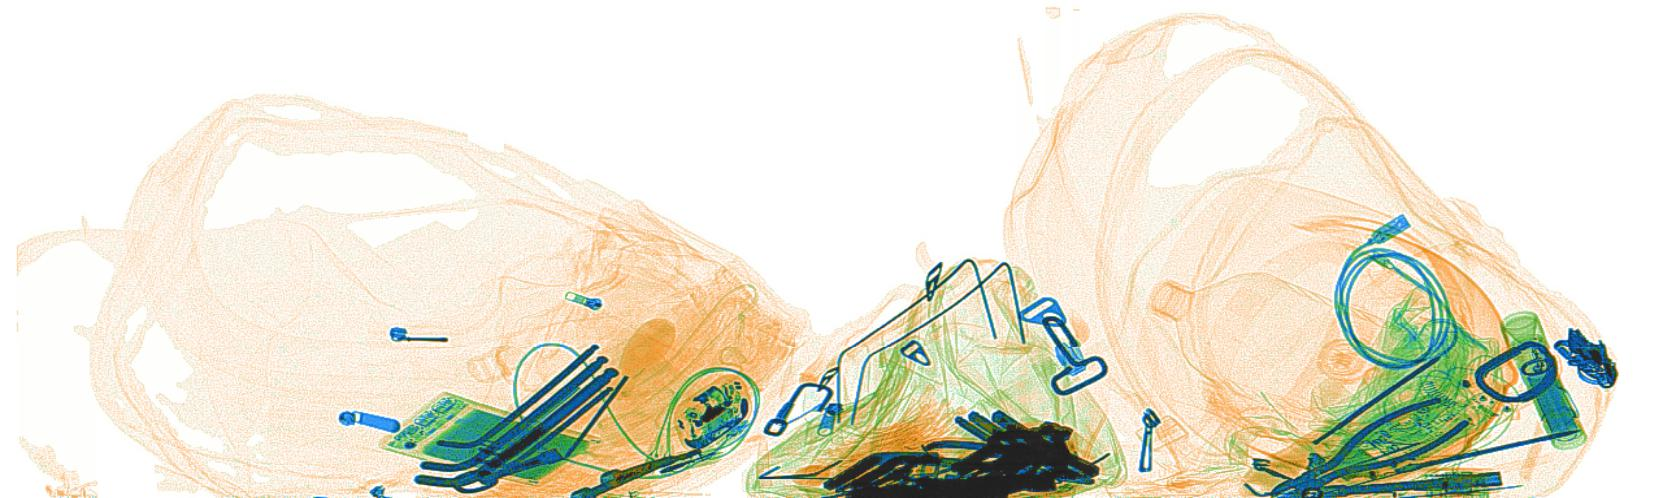battery: (1521, 364, 1577, 433)
